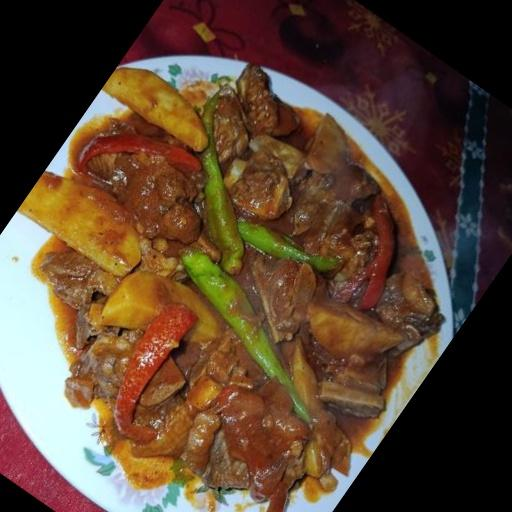pork caldereta: (18, 61, 435, 490)
